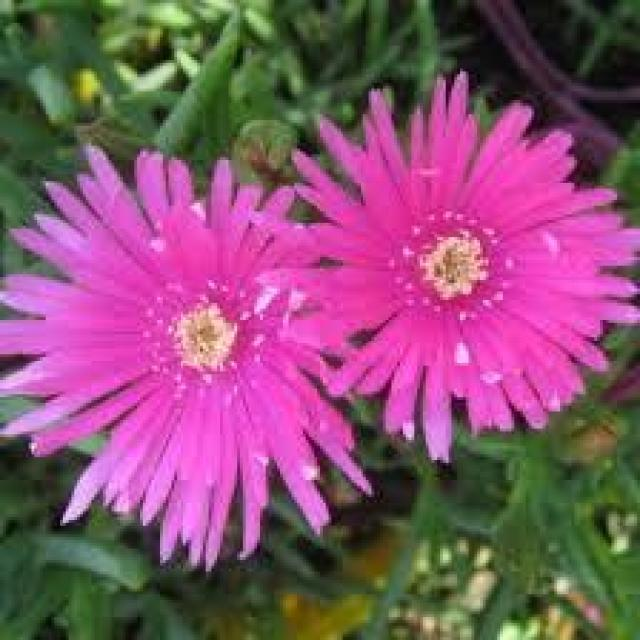organic waste: (7, 146, 393, 568), (270, 71, 633, 420)
